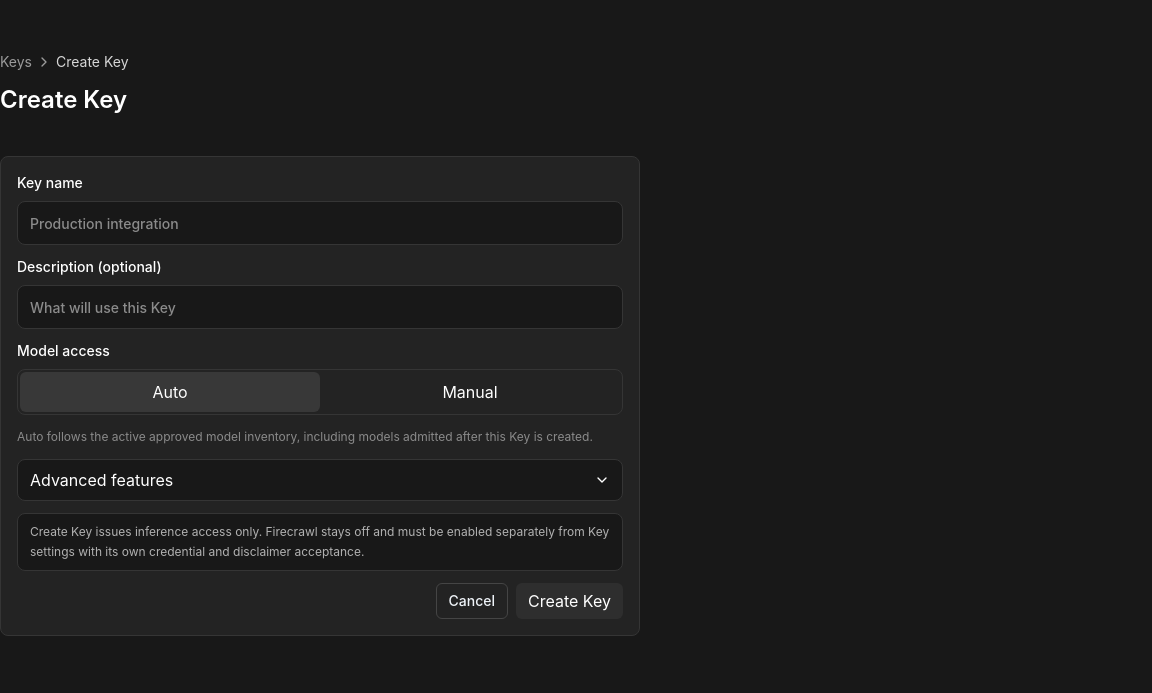
Test: Keys experience › creates OAuth inference material from Advanced features without a description or Firecrawl secret
Type "OAuth client" into the field labelled "Key name". click: (320, 223)
box: [17,201,623,245]
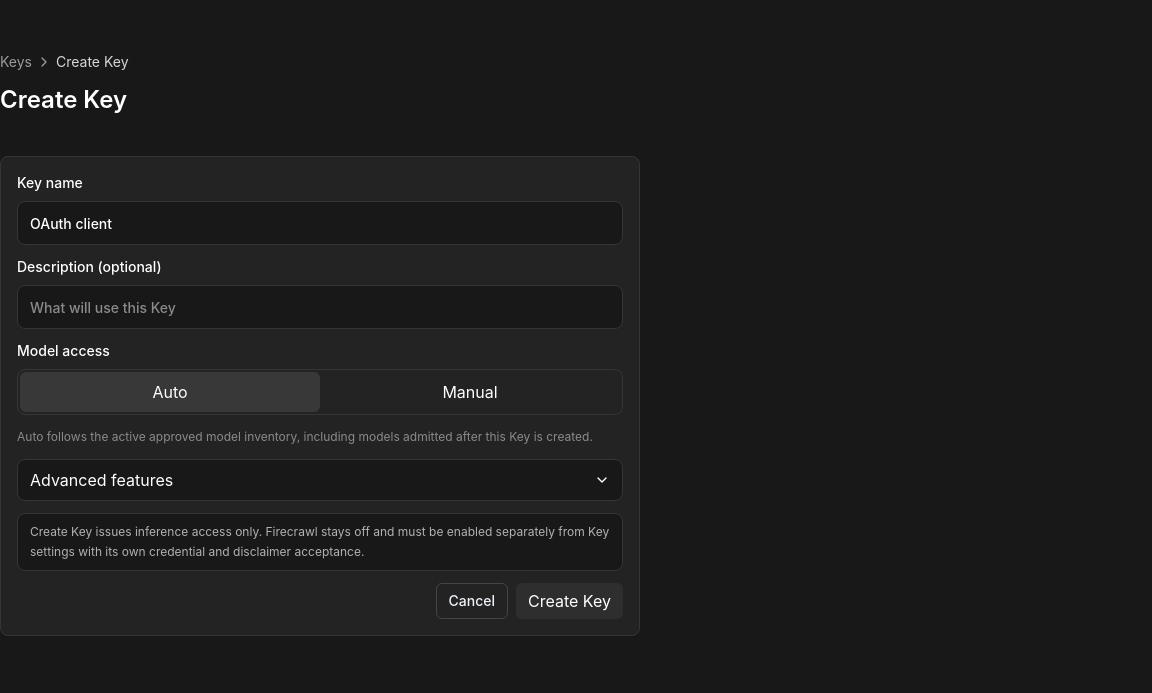
Click the button "Advanced features". click: (102, 480)
box: [17,459,623,501]
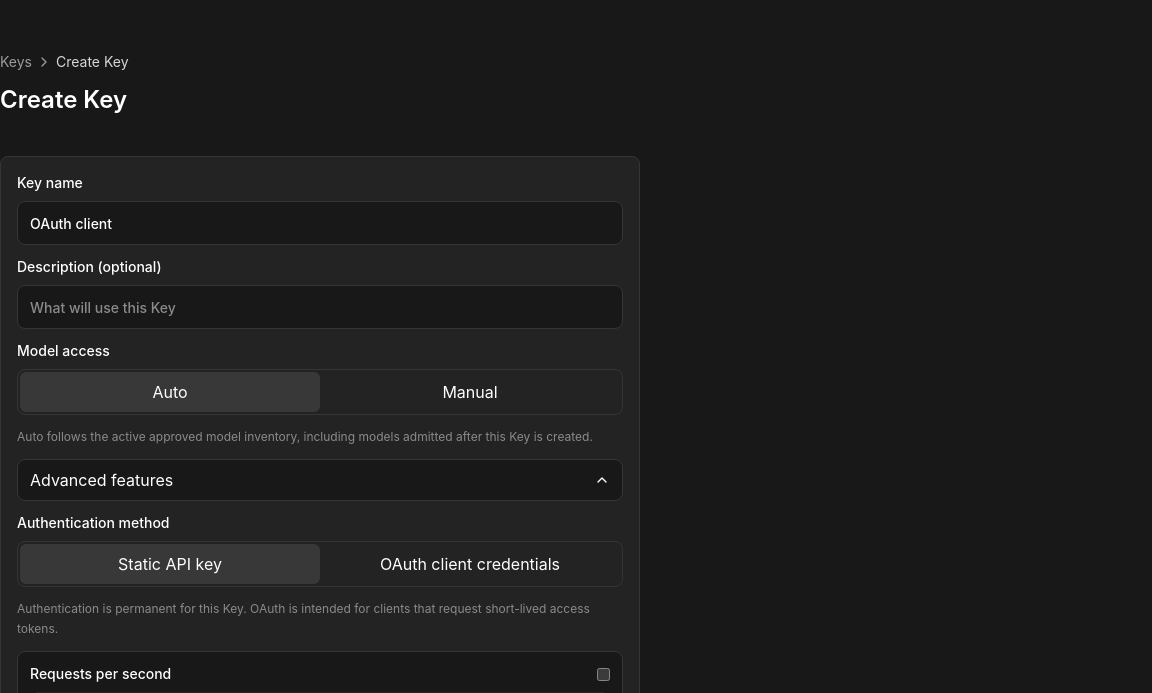
Click the button "OAuth client credentials". click: (470, 564)
box: [320,544,620,584]
(page scrolled)
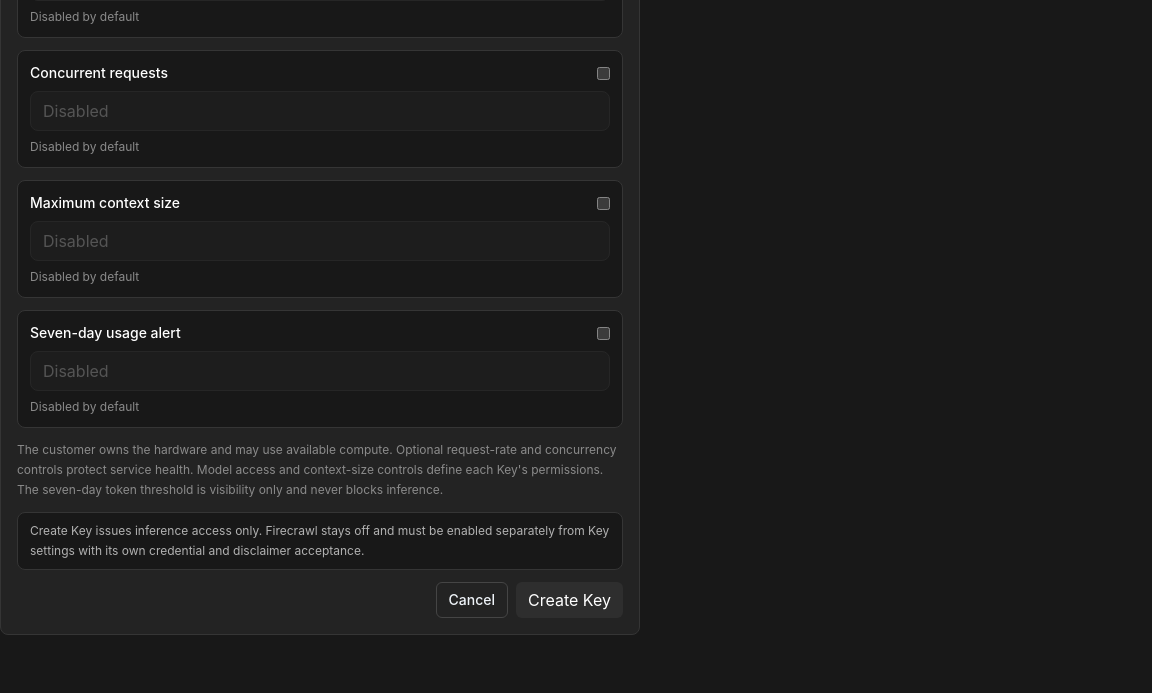
Click the button "Create Key". click: (570, 600)
box: [516,582,623,618]
(page scrolled)
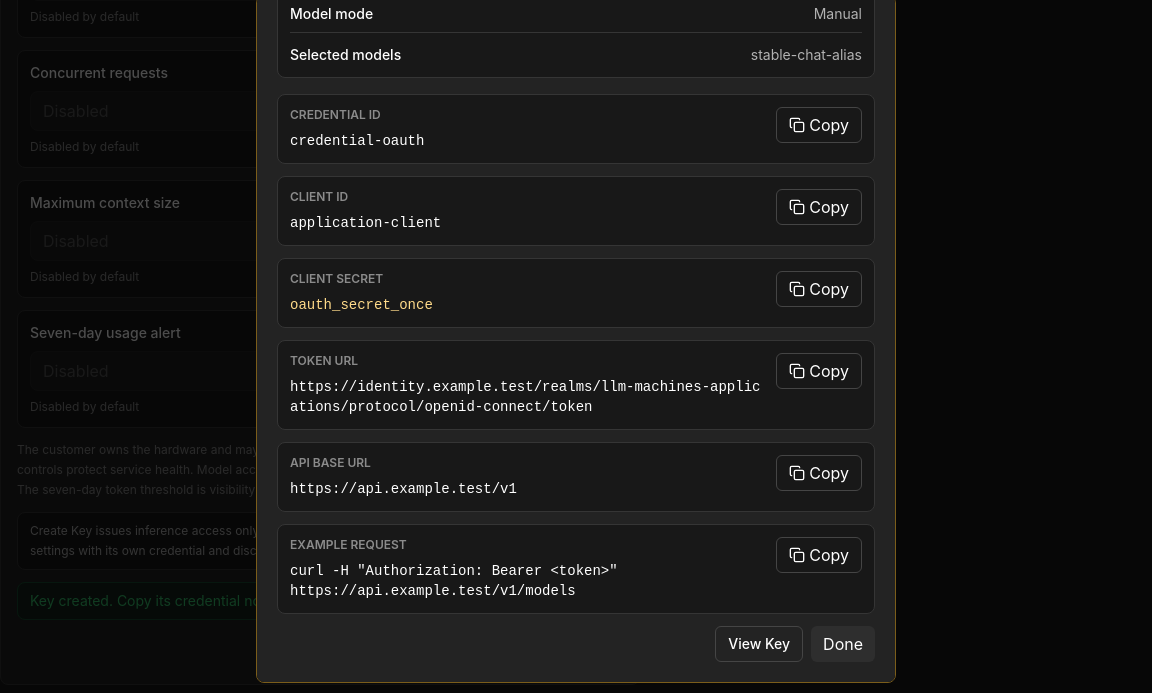
Result: the text "oauth_secret_once" is shown at [290,297,433,313]
Result: the text "application-client" is shown at [290,215,441,231]
Click the button "Done". click: (843, 644)
box: [811,626,875,662]
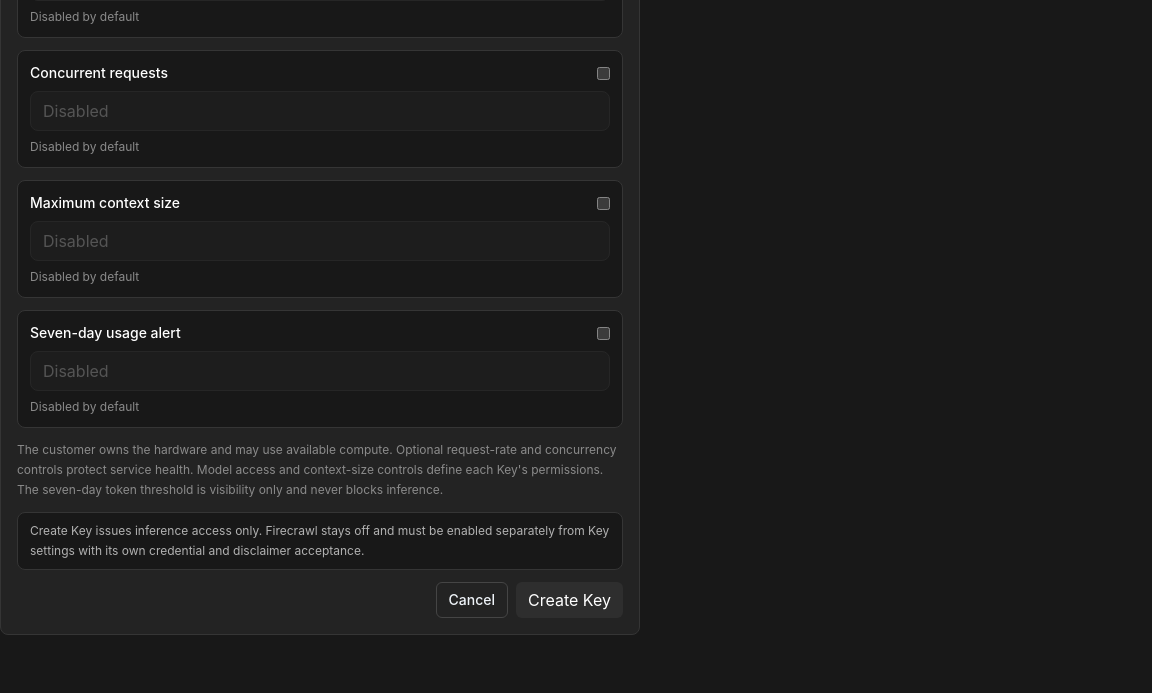
Result: the text "oauth_secret_once" is gone
